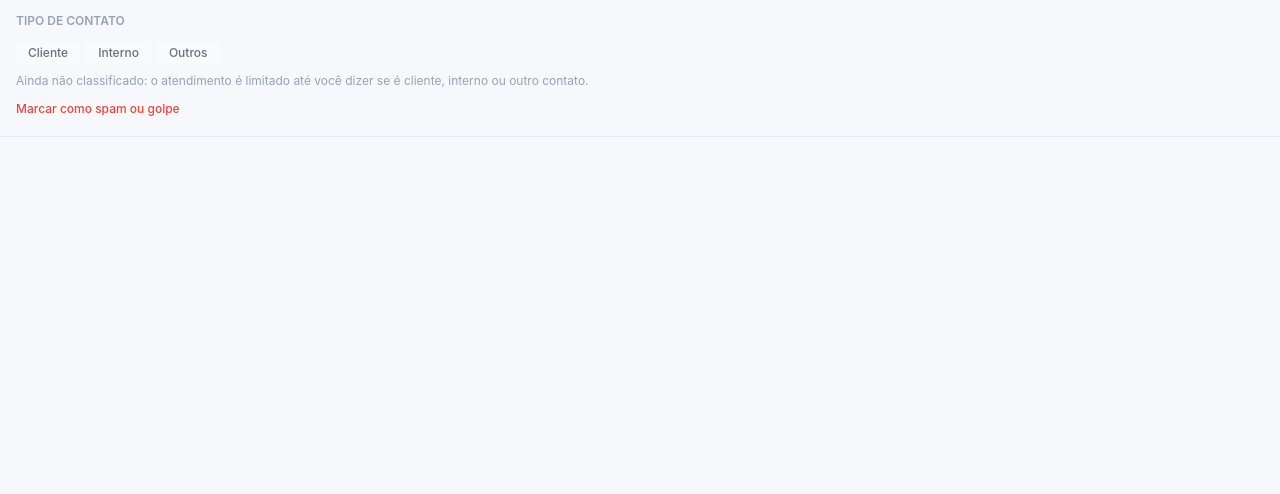
ContactKindControl — becoming a customer needs a company › says the directory is unavailable but still lists existing accounts
Click the button "Cliente" at x=48, y=53, box [16,41,80,65]
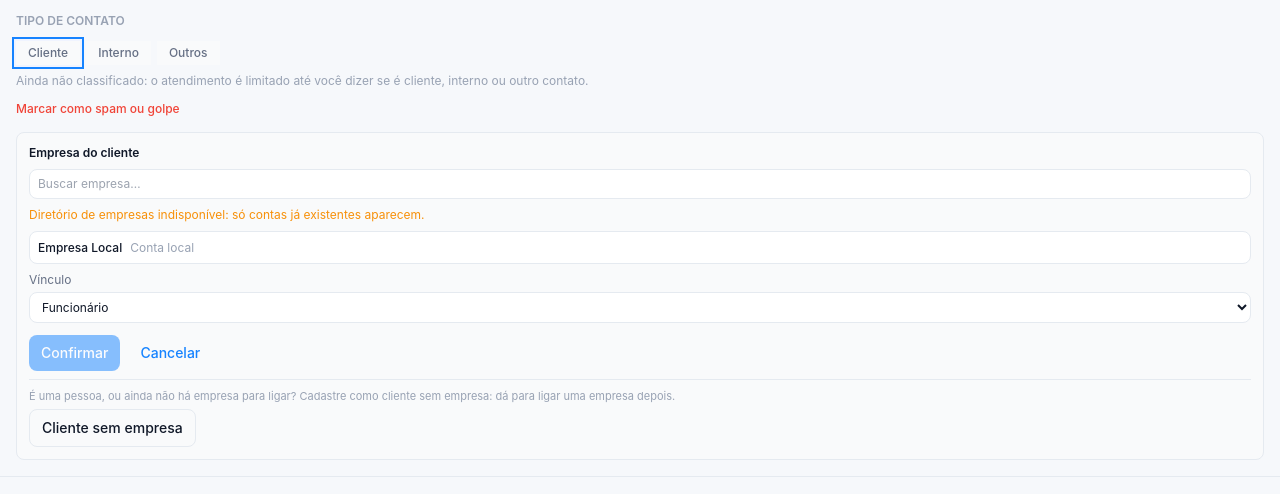
Expected: the text "Diretório de empresas indisponível" is shown, [29,206,424,222]
Expected: the button "Empresa Local" is shown, [30,232,1250,263]
